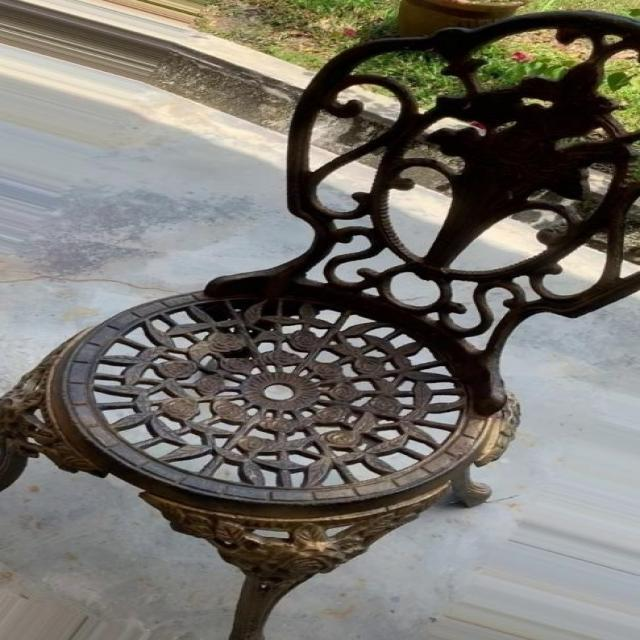chair: (8, 12, 640, 640)
